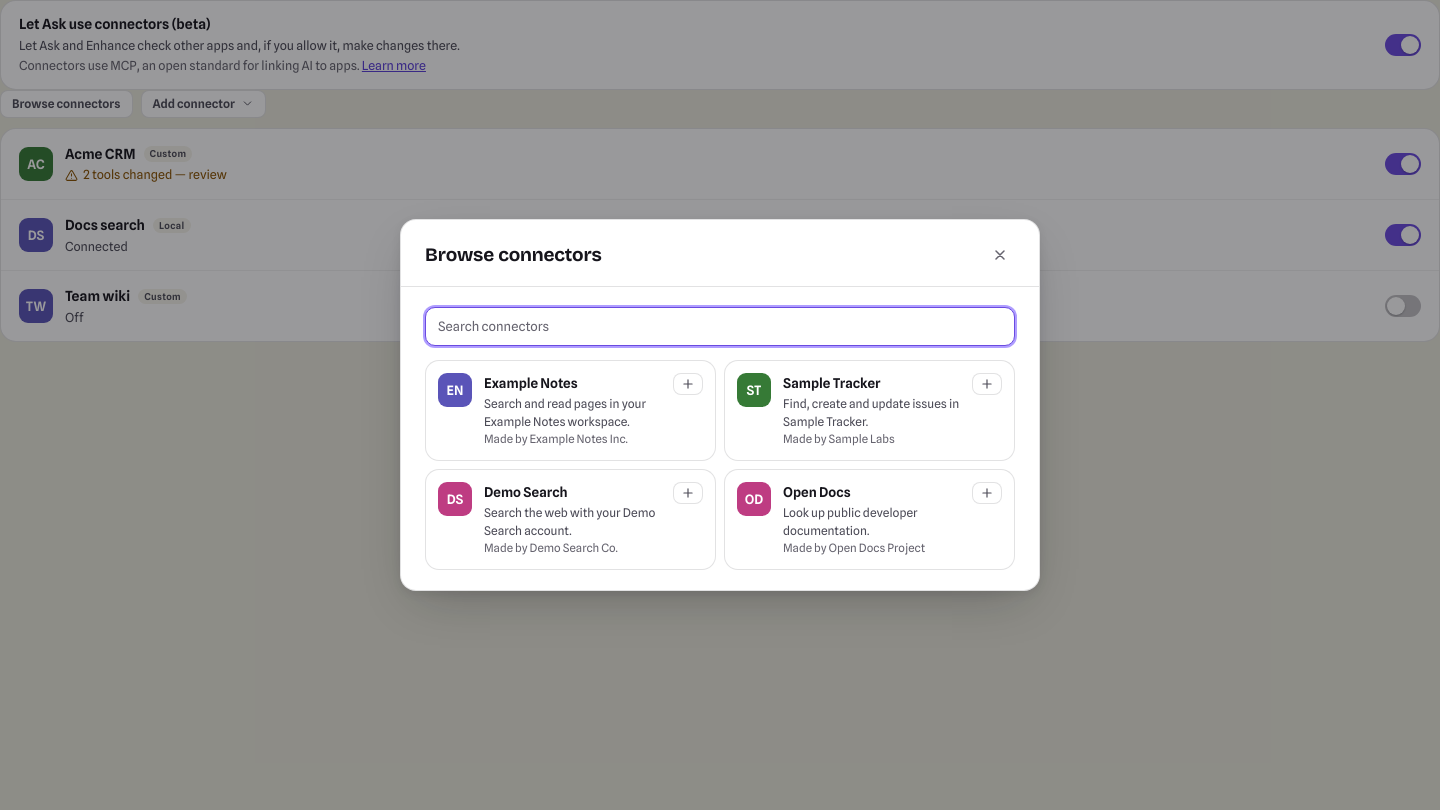
it: Browse connectors › a failed sign-in shows its words on the detail page
Click the button named "Add Sample Tracker".
click(987, 384)  # box [972, 373, 1002, 395]
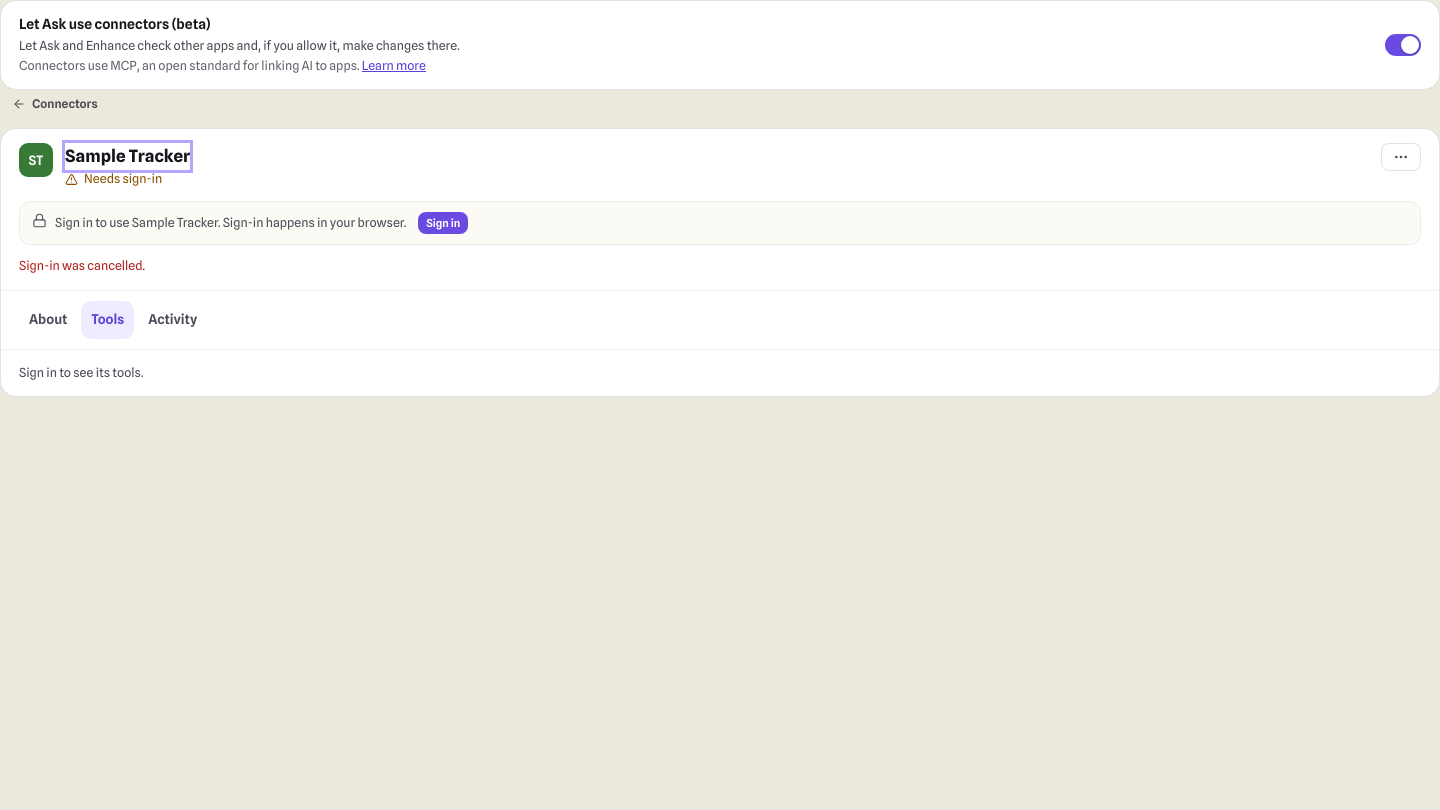
Check: the heading "Sample Tracker" is shown, box [65, 143, 190, 170]
Check: the message "Sign-in was cancelled." is shown, box [19, 258, 145, 273]
